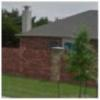chimneys: (20, 4, 32, 34)
